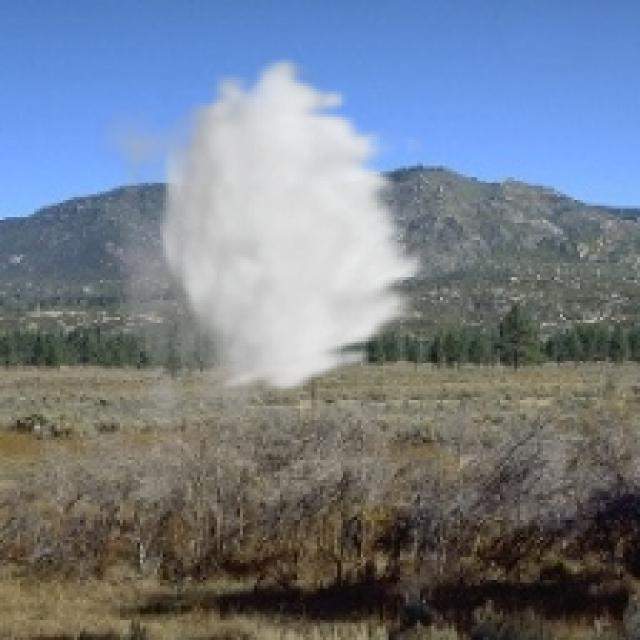Smoke: (92, 54, 434, 466)
